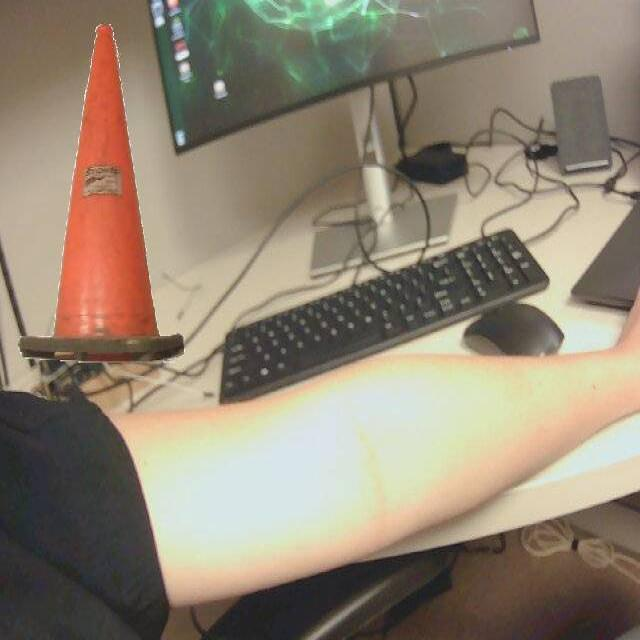traffic cone: (16, 17, 194, 374)
